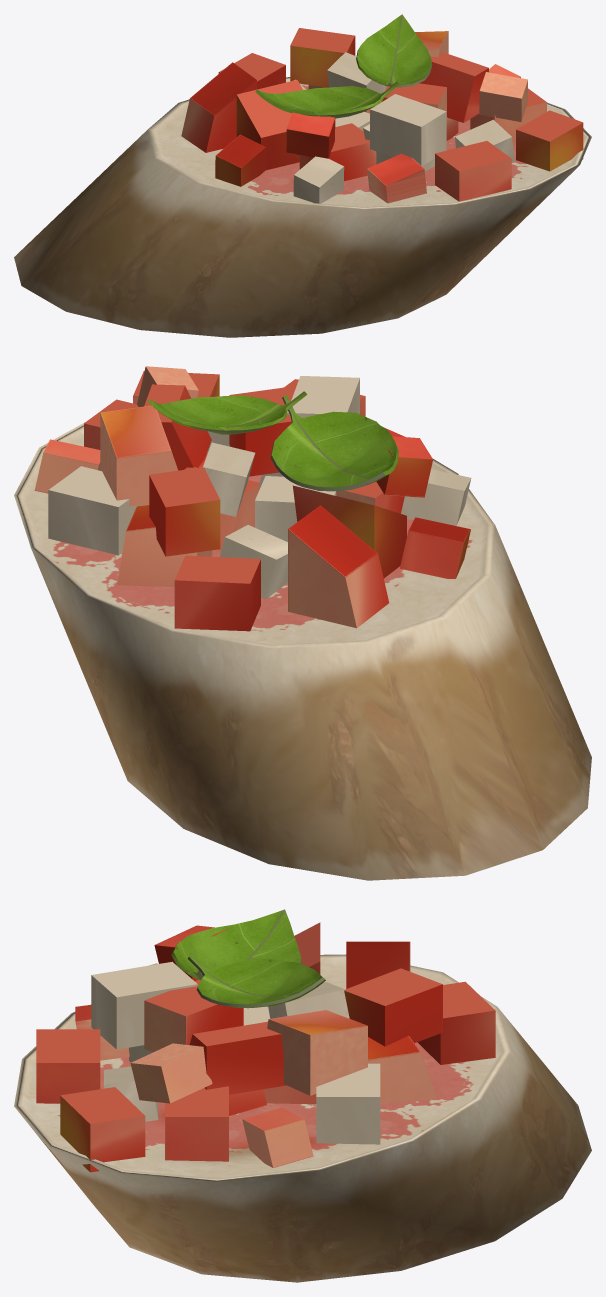
The model's file is bruschettas2.glb.
3 views of the same model, one above another, from view 1: azimuth 30°, elevation 25°; view 2: azimuth 150°, elevation 25°; view 3: azimuth 270°, elevation 25° (orthographic). The views are drawn at different scales.
Visible parts, largest first — view 1: Pan_1, Tomate, Queso, Albahaca; view 2: Pan_1, Tomate, Queso, Albahaca; view 3: Pan_1, Tomate, Queso, Albahaca.
Boxes of the visible parts, box(x1,y1,x2,y2) form: Pan_1: box(14, 77, 591, 337); Tomate: box(181, 28, 583, 203); Queso: box(293, 52, 514, 203); Albahaca: box(255, 14, 432, 118); Pan_1: box(14, 422, 591, 880); Tomate: box(34, 366, 470, 631); Queso: box(48, 376, 471, 599); Albahaca: box(147, 391, 398, 491); Pan_1: box(14, 954, 591, 1282); Tomate: box(36, 922, 495, 1172); Queso: box(91, 961, 380, 1144); Albahaca: box(171, 909, 325, 1008).
Size of the model in its own units: 0.7015 by 0.3282 by 0.5808.
Materials: 4 (4 with a texture image).
